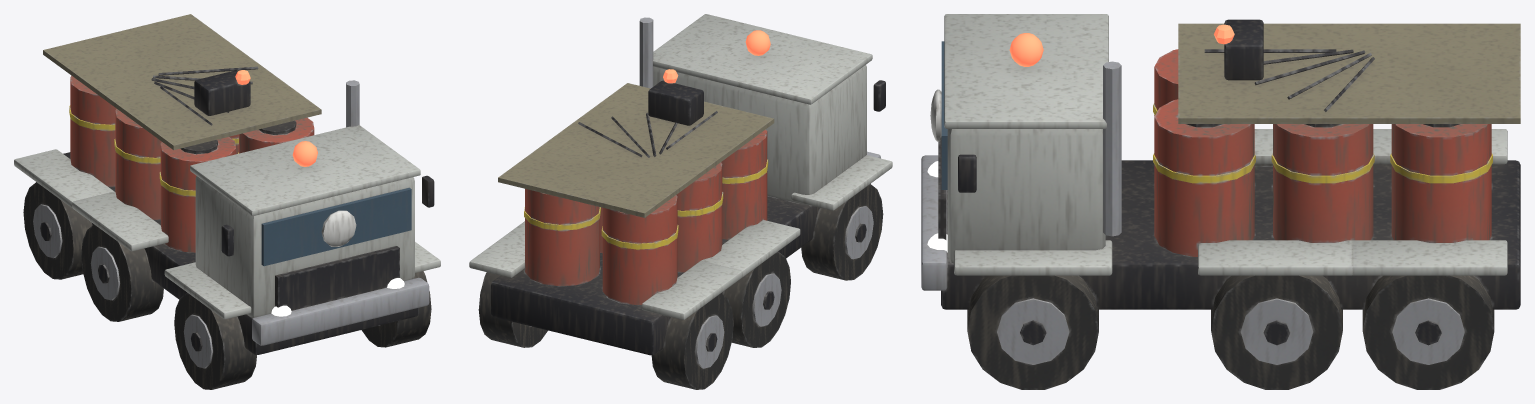
File: bombtruck.glb
3 renders of one model, left to right at view 1: azimuth 30°, elevation 25°; view 2: azimuth 150°, elevation 25°; view 3: azimuth 270°, elevation 25°, orthographic. The views are drawn at different scales.
Parts seen in each view (by area): view 1: Hull; view 2: Hull; view 3: Hull.
Part boxes in pixels (bbox=[...]): Hull: bbox=[14, 14, 440, 389]; Hull: bbox=[469, 14, 892, 389]; Hull: bbox=[921, 14, 1520, 389].
Size of the model in its own units: 2.5 by 2.59 by 4.55.
Materials: 11 (11 with a texture image).
